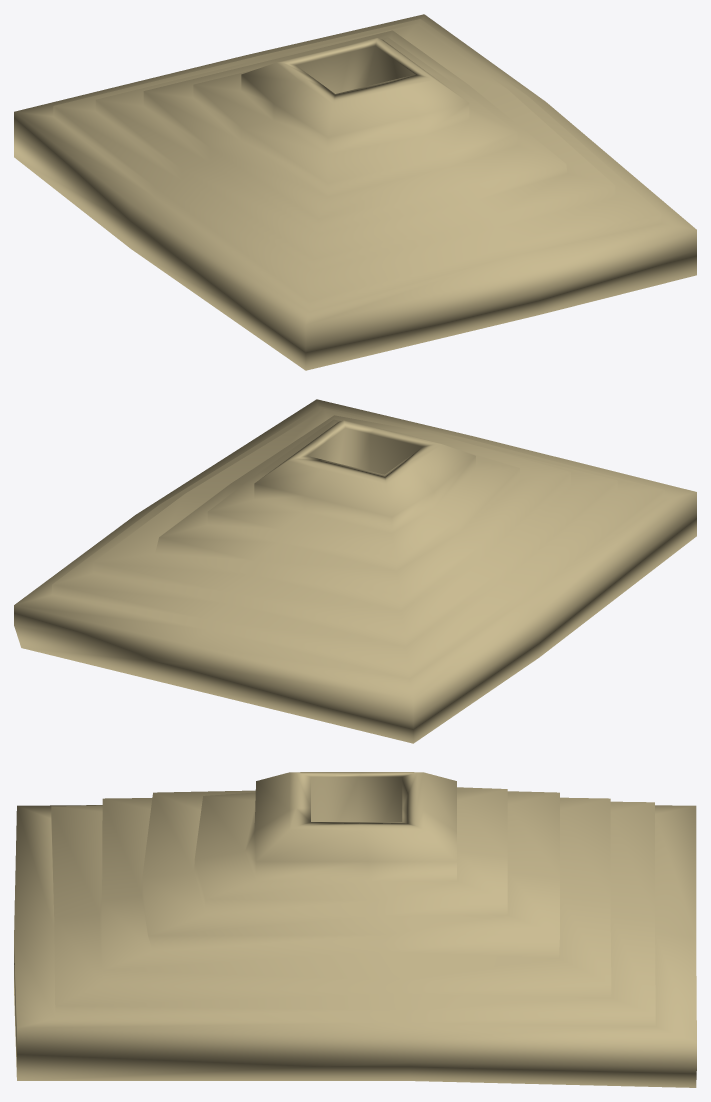
File: Kumbh.fbx
3 renders of one model, top to bottom at view 1: azimuth 30°, elevation 25°; view 2: azimuth 150°, elevation 25°; view 3: azimuth 270°, elevation 25°, orthographic. The views are drawn at different scales.
Visible parts, largest first — view 1: temple:pCube266; view 2: temple:pCube266; view 3: temple:pCube266.
Part boxes in pixels (<box>): temple:pCube266: <box>14,14,696,370</box>; temple:pCube266: <box>14,399,696,743</box>; temple:pCube266: <box>14,772,696,1087</box>.
Bounding box in the file's own units: 152 × 50.86 × 185.
